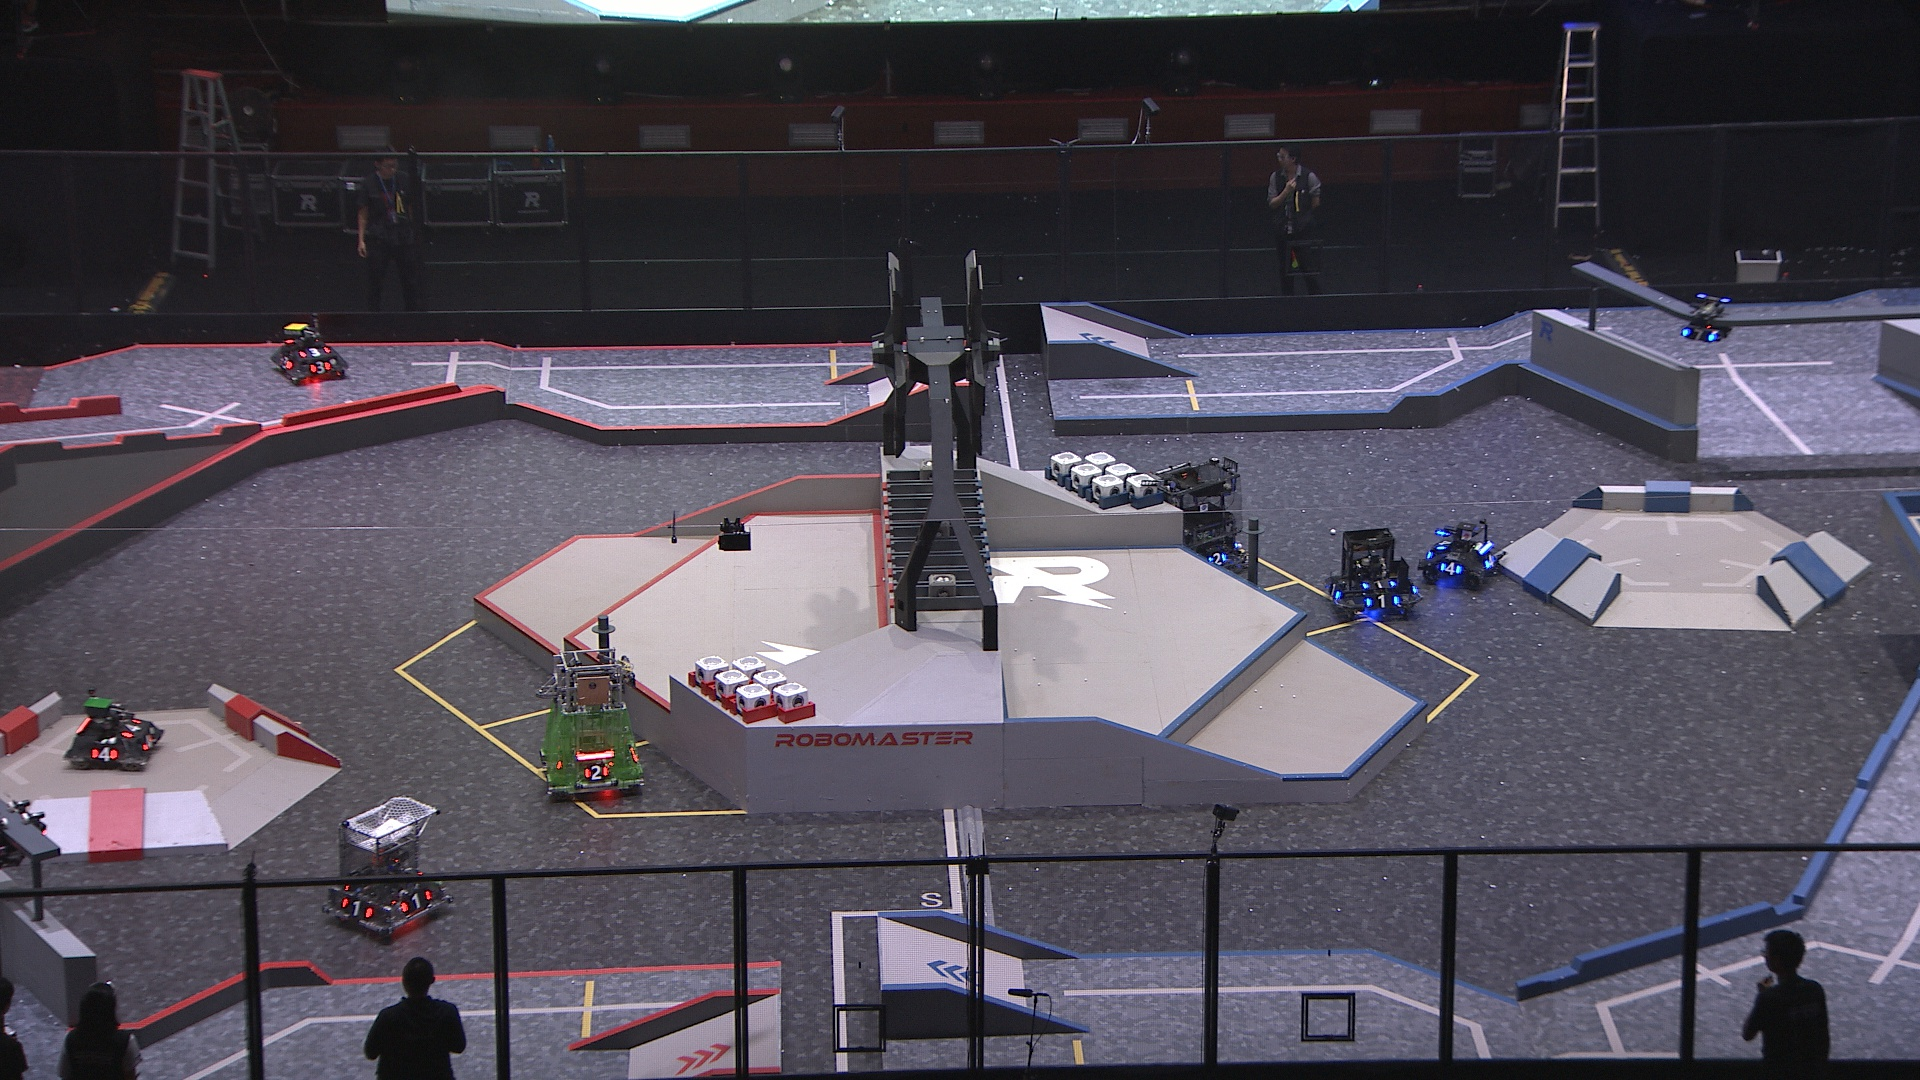armor: (338, 897, 373, 920), (401, 891, 430, 913), (1362, 595, 1400, 611), (88, 745, 120, 764), (583, 765, 611, 785), (295, 345, 332, 360), (119, 717, 142, 740), (1683, 328, 1718, 343), (1361, 579, 1399, 591), (1437, 560, 1462, 575), (309, 360, 332, 375), (140, 733, 158, 752), (1207, 553, 1229, 567), (1327, 584, 1344, 603), (1484, 553, 1499, 571), (278, 357, 295, 371), (1437, 538, 1451, 553)
car: (320, 796, 455, 943), (537, 647, 647, 799), (1133, 456, 1247, 578), (1319, 526, 1423, 624), (63, 687, 164, 773), (1420, 520, 1509, 589), (272, 323, 344, 386)
watcher: (1677, 291, 1735, 345)
